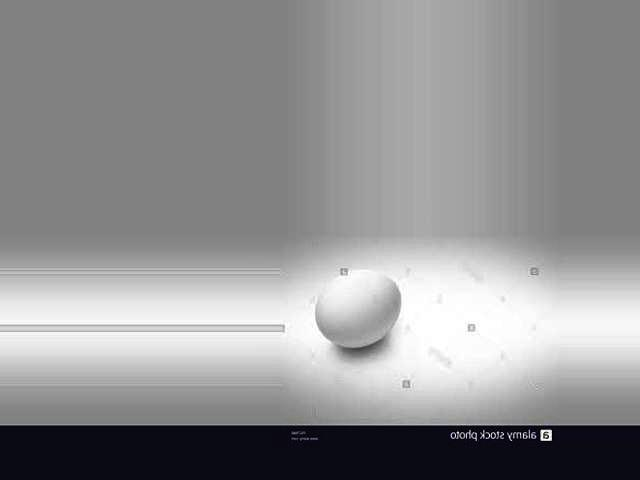egg: (313, 271, 399, 348)
